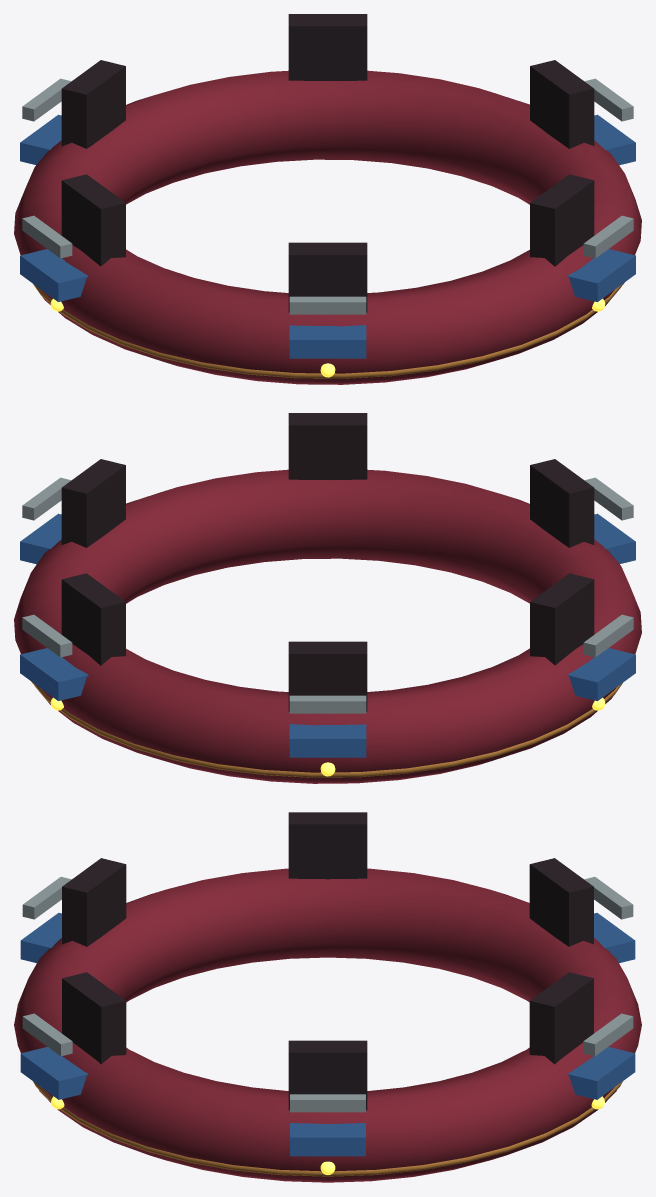
The model's file is mia-drop_car.glb.
3 renders of one model, top to bottom at view 1: azimuth 30°, elevation 25°; view 2: azimuth 150°, elevation 25°; view 3: azimuth 270°, elevation 25°, orthographic.
Visible parts, largest first — view 1: Body_velvet, Body_leather, Body_night-glass, Body_steel, Body_brass; view 2: Body_velvet, Body_leather, Body_night-glass, Body_steel, Body_brass; view 3: Body_velvet, Body_leather, Body_night-glass, Body_steel, Body_brass.
Boxes of the visible parts, box(x1,y1,x2,y2) form: Body_velvet: box(14, 70, 641, 384); Body_leather: box(61, 14, 594, 312); Body_night-glass: box(20, 114, 635, 358); Body_steel: box(22, 78, 633, 314); Body_brass: box(33, 282, 624, 378); Body_velvet: box(14, 469, 641, 783); Body_leather: box(61, 413, 594, 711); Body_night-glass: box(20, 513, 635, 757); Body_steel: box(22, 477, 633, 713); Body_brass: box(31, 681, 622, 777); Body_velvet: box(14, 868, 641, 1182); Body_leather: box(62, 812, 593, 1110); Body_night-glass: box(20, 913, 635, 1156); Body_steel: box(22, 876, 633, 1112); Body_brass: box(33, 1081, 622, 1176).
Size of the model in its own units: 3.23 by 0.7146 by 3.05.
